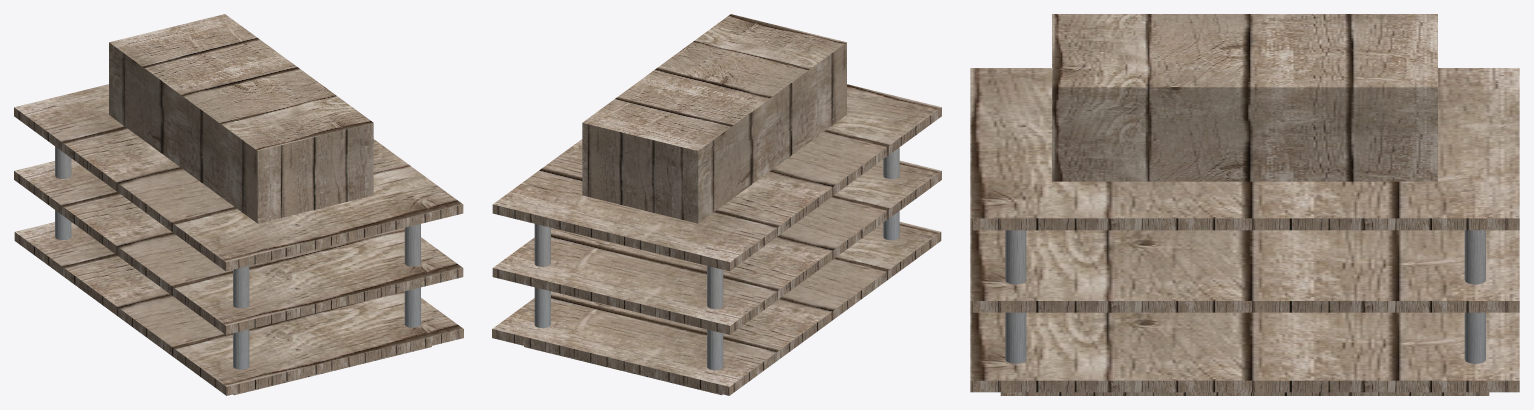
The model's file is estante1.obj.
3 views of the same model, side by side, from view 1: azimuth 30°, elevation 25°; view 2: azimuth 150°, elevation 25°; view 3: azimuth 270°, elevation 25° (orthographic). The views are drawn at different scales.
Parts seen in each view (by area): view 1: Cubo, Cubo.011, Cubo.010, Cubo.001, Cubo.004, Cubo.002; view 2: Cubo, Cubo.011, Cubo.010, Cubo.003, Cubo.002, Cubo.001; view 3: Cubo, Cubo.011, Cubo.010, Cubo.004, Cubo.003, Cubo.005.
Boxes of the visible parts, x1,y1,x2,y2 form: Cubo: (14, 14, 463, 386); Cubo.011: (14, 107, 463, 334); Cubo.010: (14, 232, 463, 395); Cubo.001: (233, 266, 249, 369); Cubo.004: (404, 224, 420, 327); Cubo.002: (55, 146, 71, 239); Cubo: (492, 14, 941, 386); Cubo.011: (492, 107, 941, 334); Cubo.010: (492, 232, 941, 395); Cubo.003: (534, 224, 550, 327); Cubo.002: (707, 266, 723, 370); Cubo.001: (883, 147, 899, 240); Cubo: (970, 14, 1519, 380); Cubo.011: (970, 218, 1519, 312); Cubo.010: (970, 380, 1519, 392); Cubo.004: (1005, 230, 1026, 363); Cubo.003: (1464, 230, 1485, 363); Cubo.005: (1000, 392, 1489, 395).
Size of the model in its own units: 3.11 by 2.74 by 4.79.
Materials: 2 (2 with a texture image).
